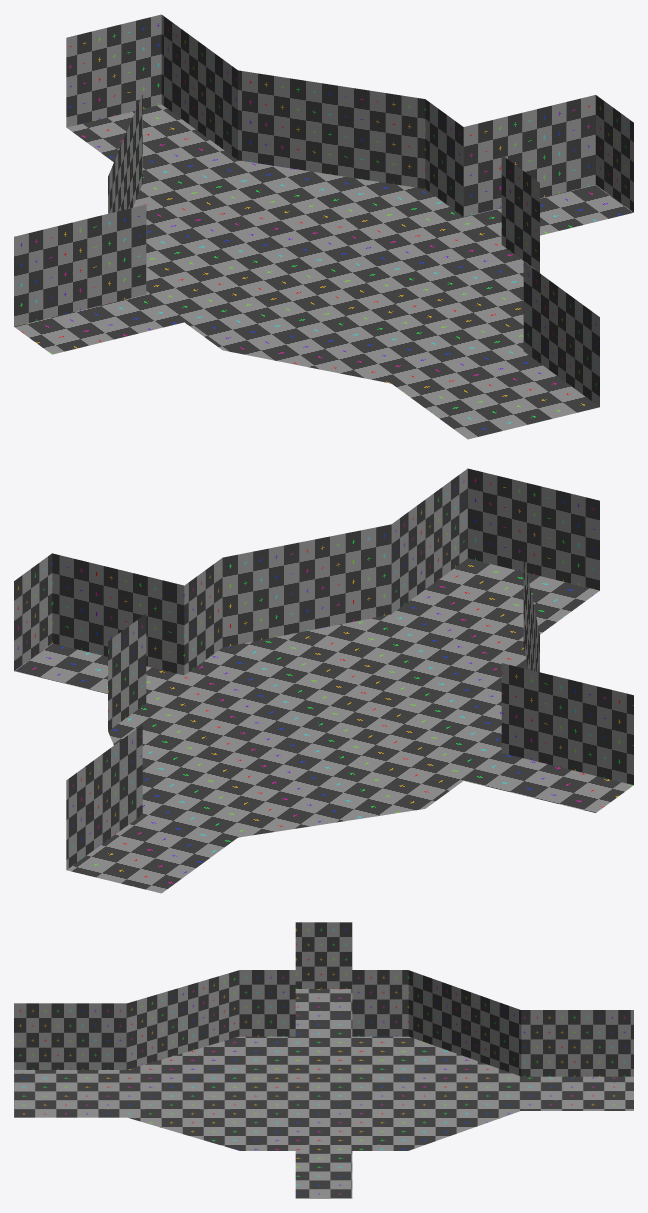
The model's file is damap1.glb.
3 renders of one model, top to bottom at view 1: azimuth 30°, elevation 25°; view 2: azimuth 150°, elevation 25°; view 3: azimuth 270°, elevation 25°, orthographic. The views are drawn at different scales.
Visible parts, largest first — view 1: Base; view 2: Base; view 3: Base.
Boxes of the visible parts, x1=… form: Base: x1=14, y1=14, x2=633, y2=439; Base: x1=14, y1=468, x2=633, y2=893; Base: x1=14, y1=922, x2=633, y2=1198.
Size of what is drawn, in the model's own units: 8.8 by 1.3 by 11.
2 materials, 2 textured.
